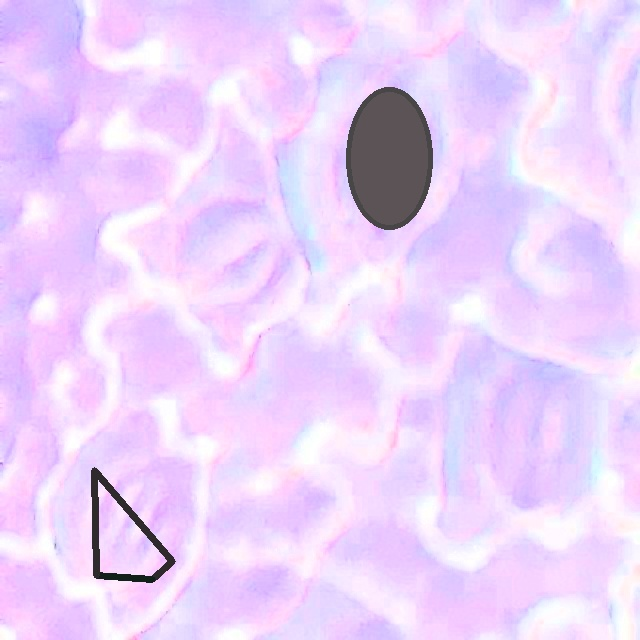open: (346, 87, 432, 230), (93, 467, 175, 582)
